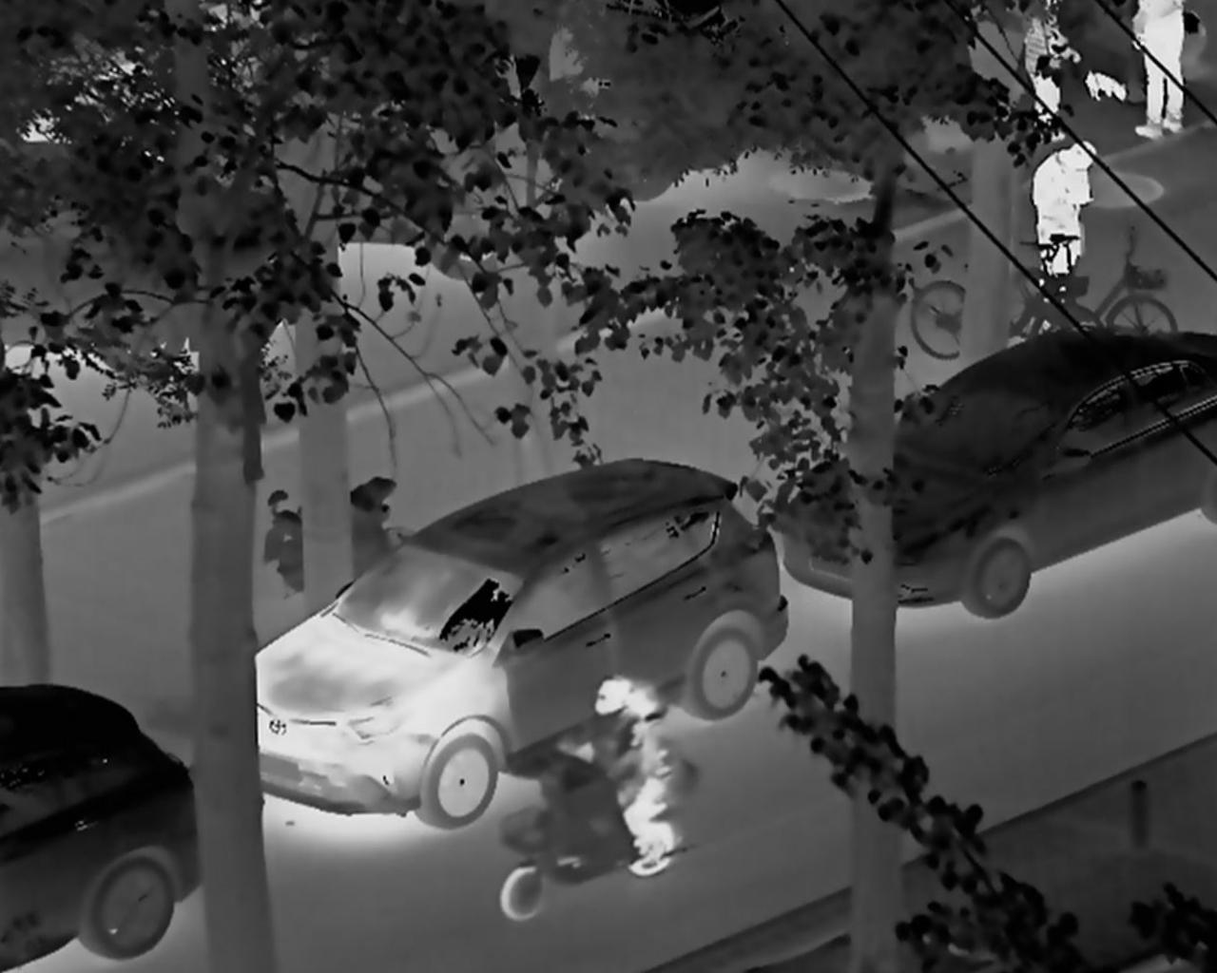person: (1034, 135, 1104, 296), (589, 675, 642, 849)
